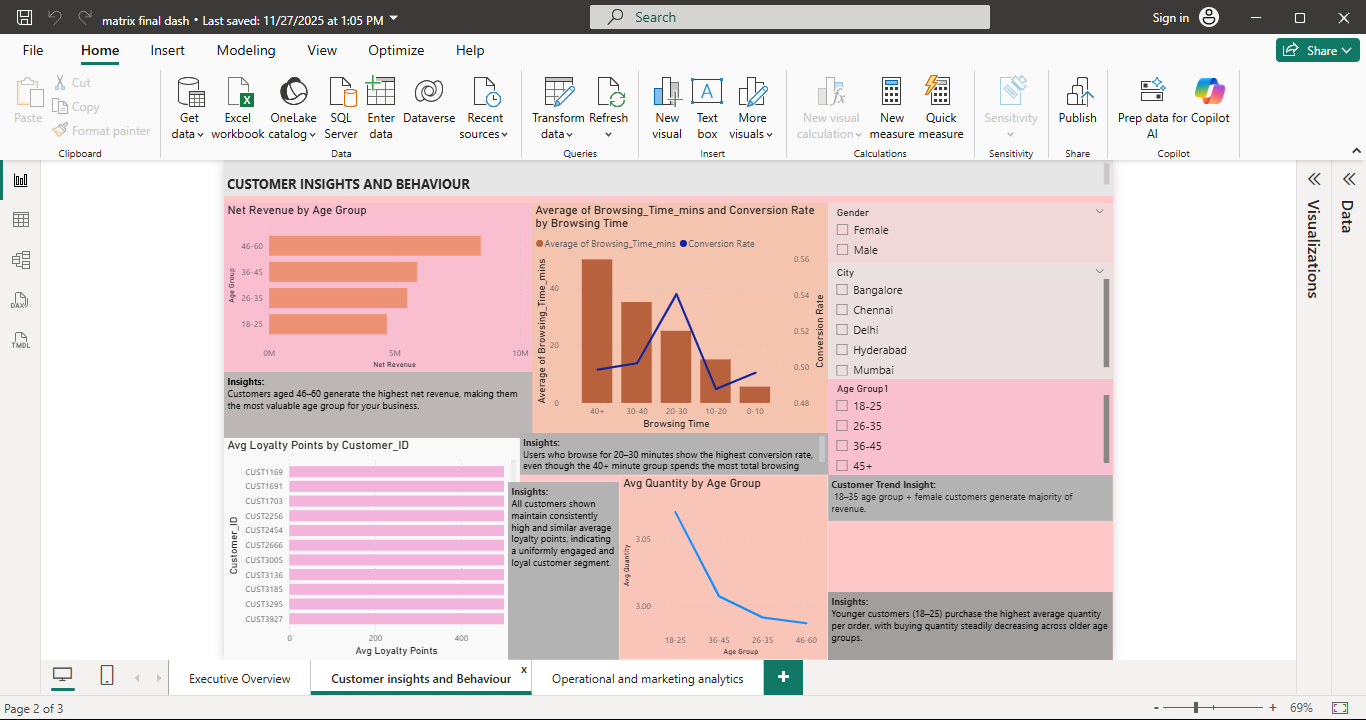

Layout of this report page (visuals, bound fields, positions):
{"tool":"powerbi","page":{"name":"Customer insights and Behaviour","canvas":[1280,720],"ordinal":1},"visuals":[{"type":"lineStackedColumnComboChart","fields":{"Category":["Data.Browsing Time Bin"],"Y":["Avg(Data.Browsing_Time_mins)"],"Y2":["Data.Conversion Rate"]},"box":[443.5,61.9,426.2,331.2],"z":0},{"type":"clusteredBarChart","fields":{"Category":["Data.Customer_ID"],"Y":["Data.Avg Loyalty Points"]},"box":[0,400.3,426.2,319.7],"z":1000},{"type":"slicer","fields":{"Values":["Data.Gender"]},"box":[869.8,61.9,410.4,86.4],"z":2000},{"type":"slicer","fields":{"Values":["Data.Age Group"]},"box":[869.8,315.4,410.4,138.2],"z":3000},{"type":"slicer","fields":{"Values":["Data.City"]},"box":[869.8,148.3,410.4,167],"z":4000},{"type":"textbox","box":[869.8,453.6,410.4,66.2],"z":5000},{"type":"textbox","box":[0,0,1280.2,51.8],"z":6000},{"type":"textbox","box":[409,463.7,159.8,256.3],"z":7000},{"type":"textbox","box":[0,305.3,443.5,95],"z":8000},{"type":"textbox","box":[426.2,393.1,443.5,60.5],"z":9000},{"type":"barChart","fields":{"Category":["Data.Age Group"],"Y":["Data.Net Revenue"]},"box":[0,61.9,443.5,243.4],"z":10000},{"type":"lineChart","fields":{"Y":["Data.Avg Quantity"],"Category":["Data.Age Group"]},"box":[568.8,453.6,301,266.4],"z":11000},{"type":"textbox","box":[869.8,622.1,410.4,97.9],"z":12000}]}

Visuals, with their boxes on the page's 1280x720 design canvas (x1, y1, x2, y2). These are canvas units, not pixel positions in the 1366x720 screenshot, which may show the page scaled, cropped or inside an application window:
lineStackedColumnComboChart - Data.Browsing Time Bin x Avg(Data.Browsing_Time_mins): [left=444, top=62, right=870, bottom=393]
clusteredBarChart - Data.Customer_ID x Data.Avg Loyalty Points: [left=0, top=400, right=426, bottom=720]
slicer - Data.Gender: [left=870, top=62, right=1280, bottom=148]
slicer - Data.Age Group: [left=870, top=315, right=1280, bottom=454]
slicer - Data.City: [left=870, top=148, right=1280, bottom=315]
textbox: [left=870, top=454, right=1280, bottom=520]
textbox: [left=0, top=0, right=1280, bottom=52]
textbox: [left=409, top=464, right=569, bottom=720]
textbox: [left=0, top=305, right=444, bottom=400]
textbox: [left=426, top=393, right=870, bottom=454]
barChart - Data.Age Group x Data.Net Revenue: [left=0, top=62, right=444, bottom=305]
lineChart - Data.Avg Quantity x Data.Age Group: [left=569, top=454, right=870, bottom=720]
textbox: [left=870, top=622, right=1280, bottom=720]
